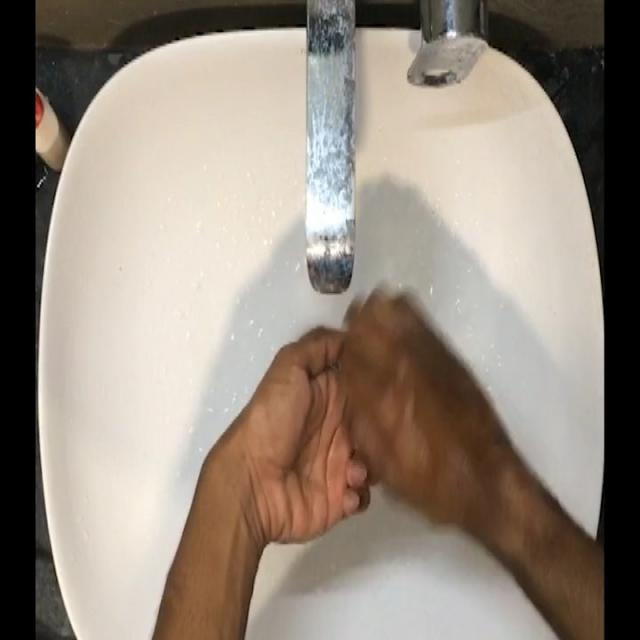step_4: (260, 288, 494, 530)
